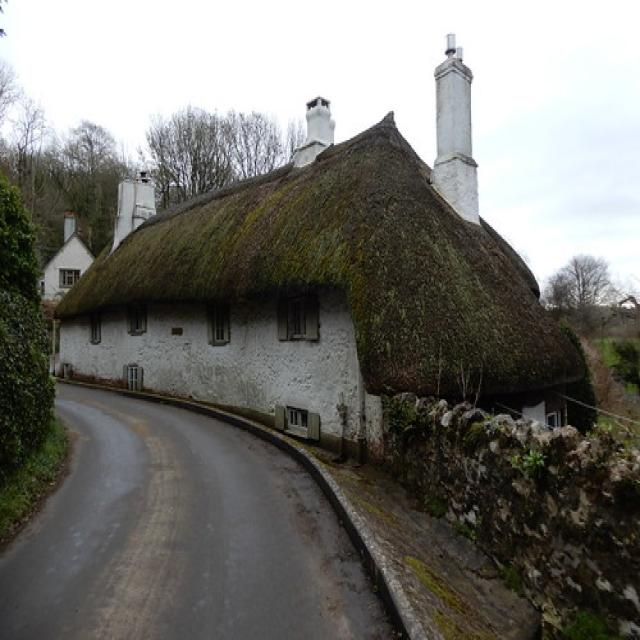building: (54, 119, 598, 462)
